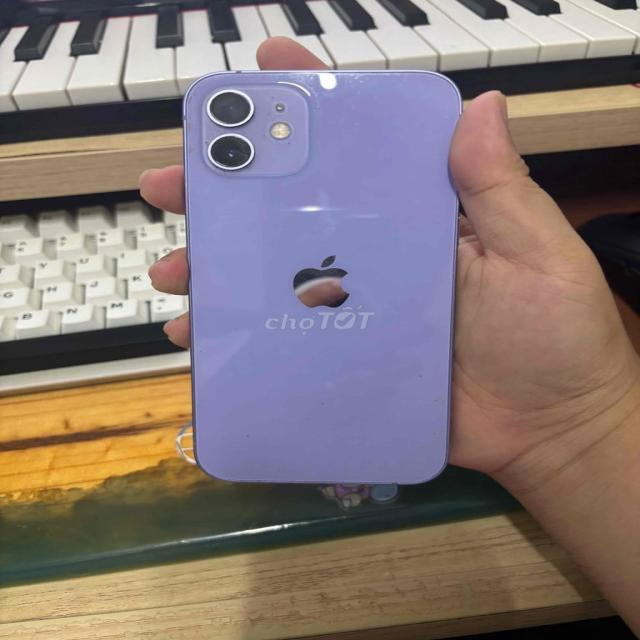gen_12_13: (175, 63, 469, 487)
